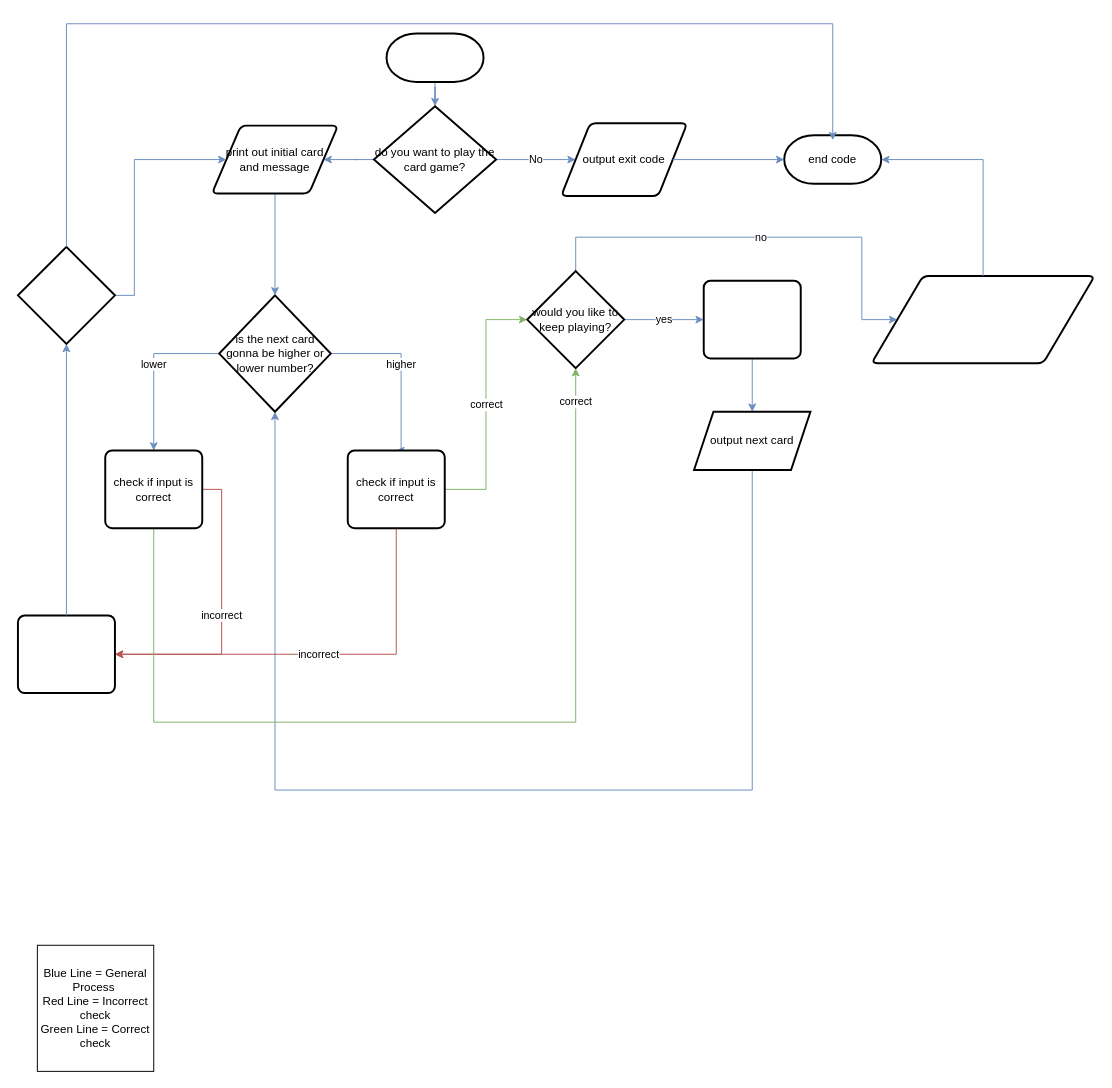
Image size: 1112x1088. Some labels were removed from this diagram. The shapes that lost their labels are listed below. From the top down, each one's box as (x1, y1, x2, y2) in pixels, then its label:
(385, 32, 484, 82): start
(16, 245, 115, 344): would you like to play again?
(702, 279, 801, 359): add 1 to score variable
(870, 275, 1095, 364): output total score and correct guesses, thanks for playing
(16, 614, 115, 694): revert score to 0, stop printing cards
